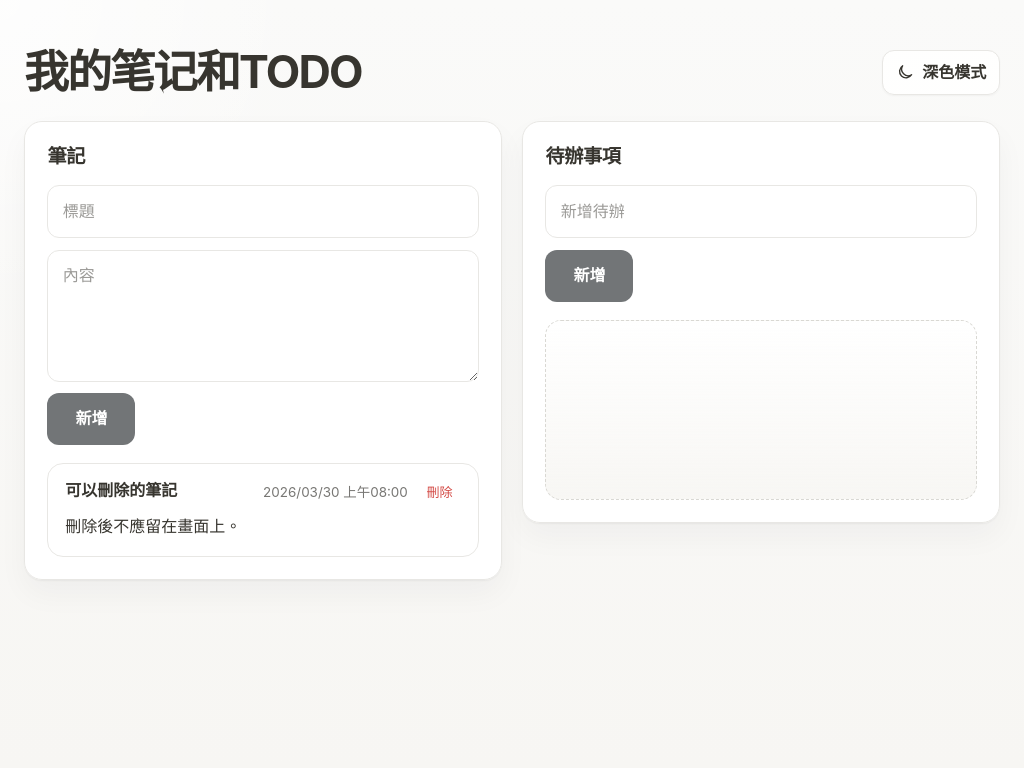
Test case: HomeClient interactions › deletes a note after confirmation and reloads the list
Click the button with aria-label "刪除筆記：可以刪除的筆記". click: (440, 493)
box: top-left (418, 480), bottom-right (461, 506)
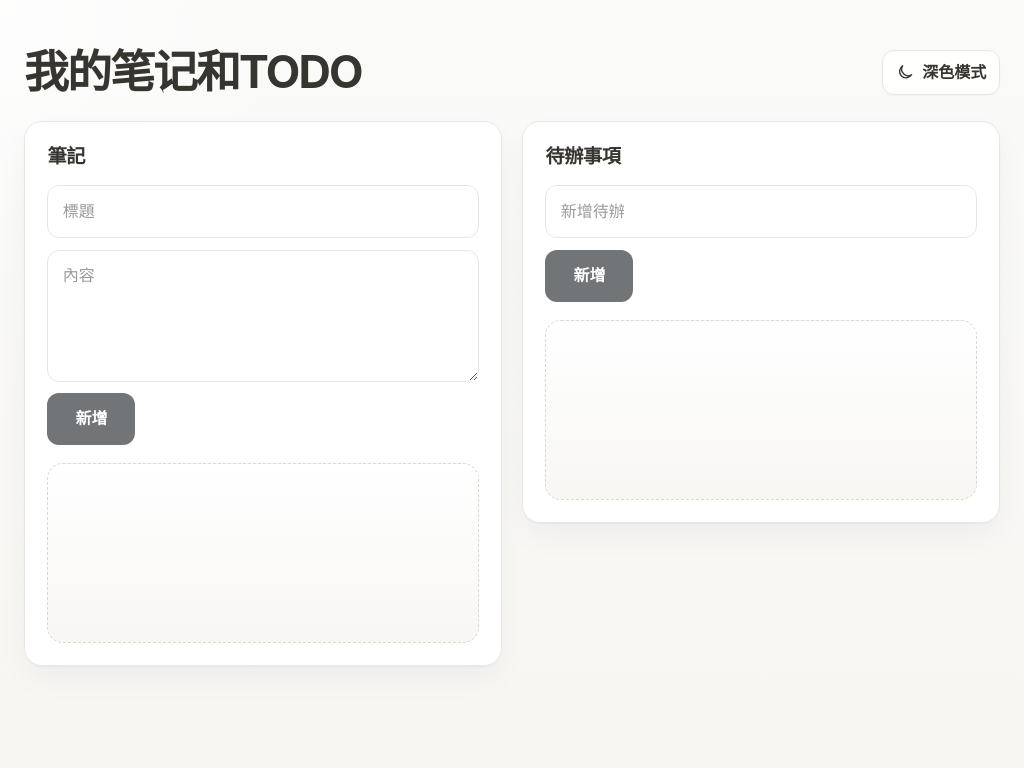
Expected: the heading "可以刪除的筆記" is gone
